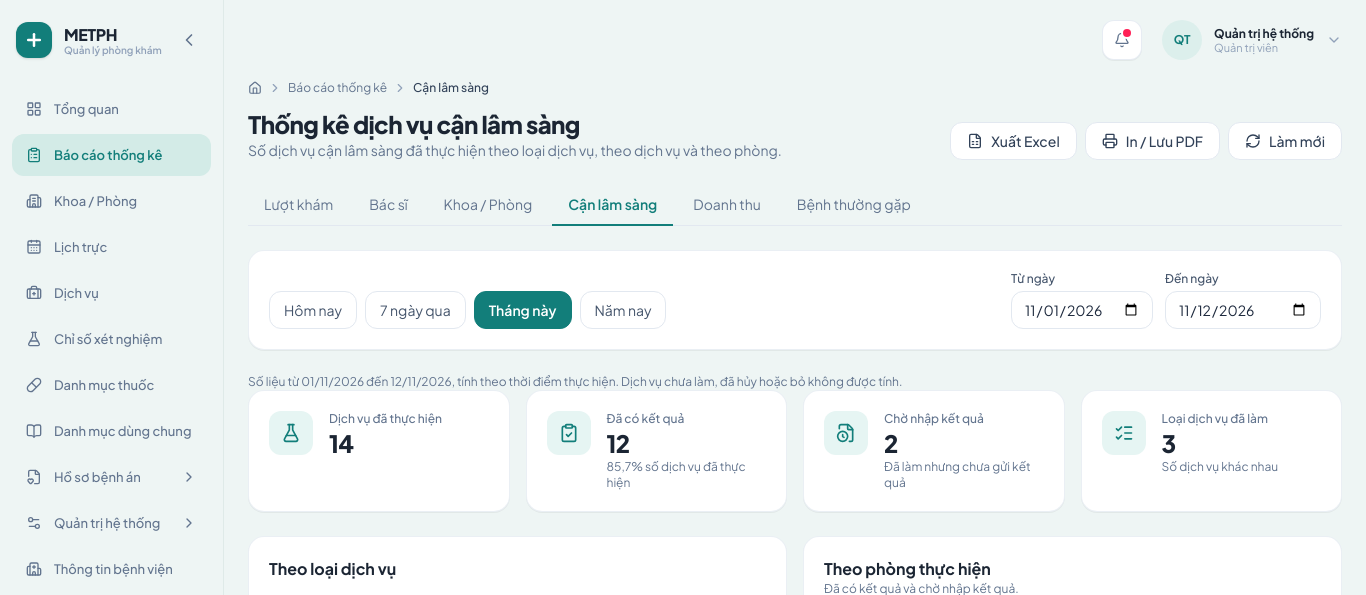
Scenario: ParaclinicalStatisticsPage (UC-30) › reloads with a quick period and shows a Vietnamese error with retry
Click the button "Năm nay". click: (623, 310)
box: [580,291,666,329]
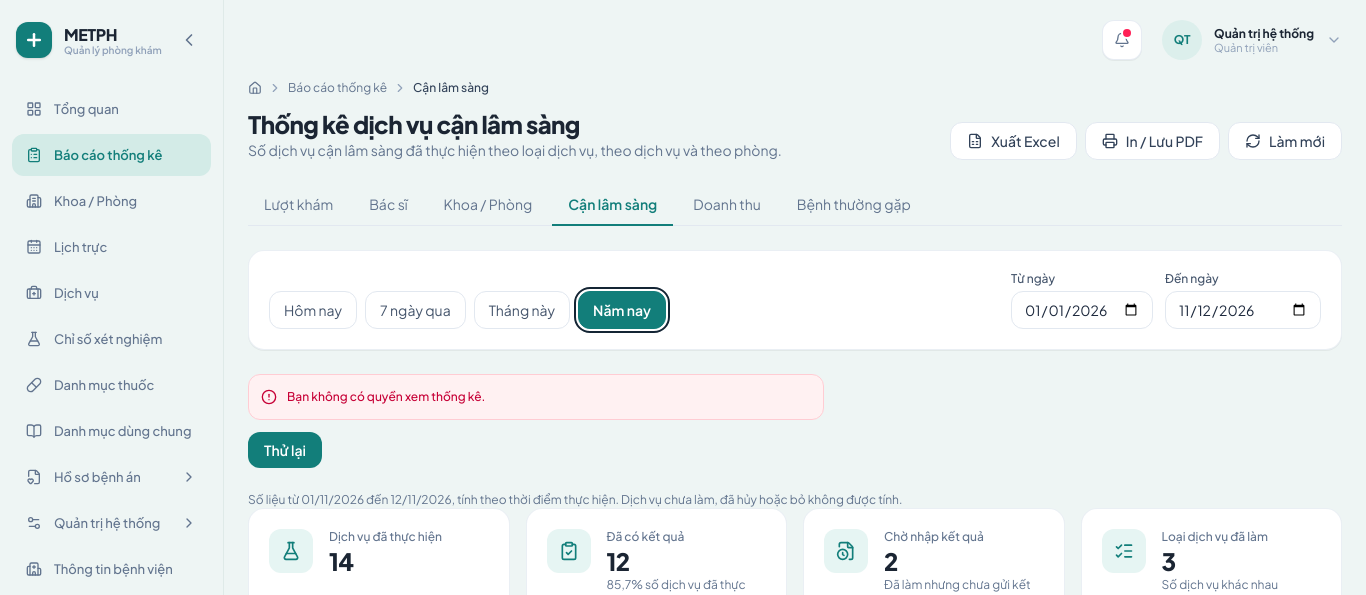
Expected: the text "Bạn không có quyền xem thống kê." is shown, [287,387,485,407]
Click the button "Thử lại". click: (285, 450)
box: [248,432,322,468]
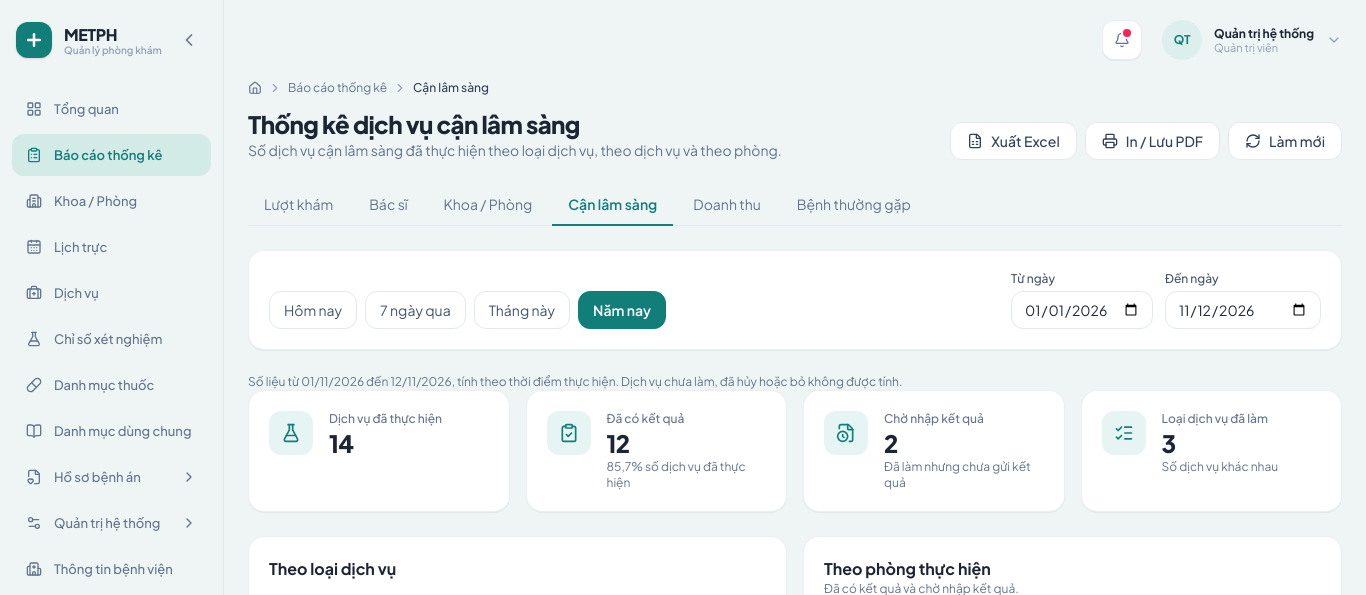
Expected: the text "Bạn không có quyền xem thống kê." is gone
